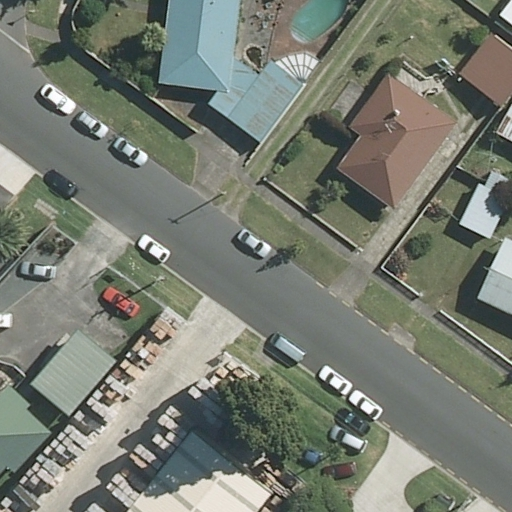DT: (211, 187, 230, 200)
